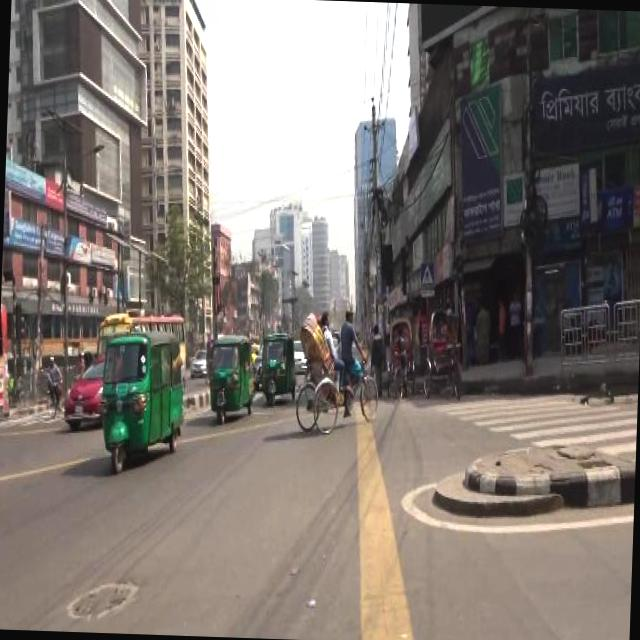bus: (94, 307, 187, 383)
car: (61, 349, 107, 426), (290, 333, 306, 372), (189, 346, 208, 377)
motorcycle: (96, 326, 185, 474), (292, 305, 380, 434), (206, 332, 256, 421), (420, 303, 466, 398), (258, 330, 296, 410), (385, 315, 416, 400), (72, 348, 93, 382)
